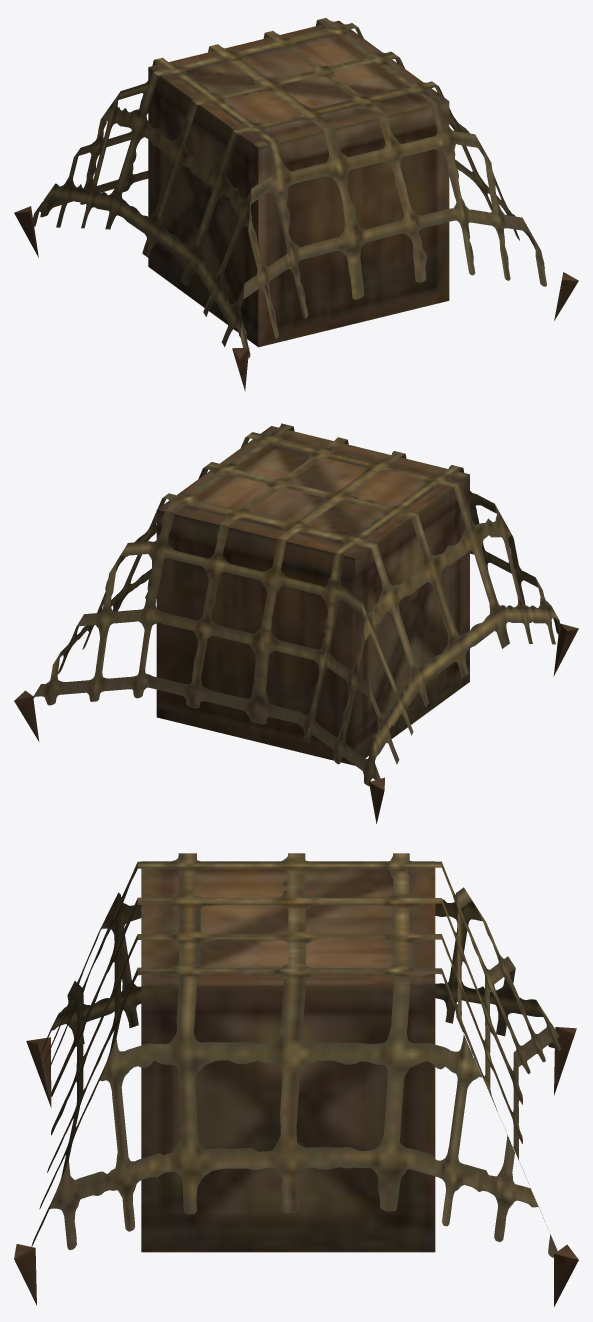
Rendered from GYMA00068.FBX.
The picture shows the model from 3 angles, top to bottom: view 1: azimuth 30°, elevation 25°; view 2: azimuth 150°, elevation 25°; view 3: azimuth 270°, elevation 25°; orthographic projection. The views are drawn at different scales.
Parts seen in each view (by area): view 1: MA00068; view 2: MA00068; view 3: MA00068.
Boxes of the visible parts, x1,y1,x2,y2 form: MA00068: (14, 18, 578, 391); MA00068: (14, 423, 578, 823); MA00068: (14, 853, 578, 1306).
Size of the model in its own units: 1.49 by 0.847 by 1.54.
